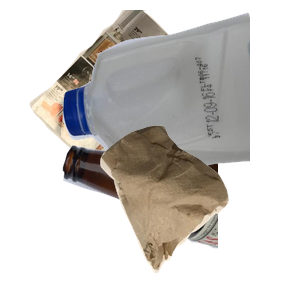glass: (60, 142, 300, 300)
paper: (27, 10, 230, 190)
plastic: (60, 10, 300, 175)
trash: (98, 123, 300, 300)
